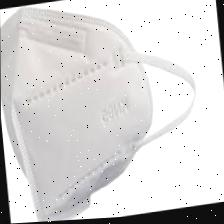mask: (0, 0, 198, 224)
